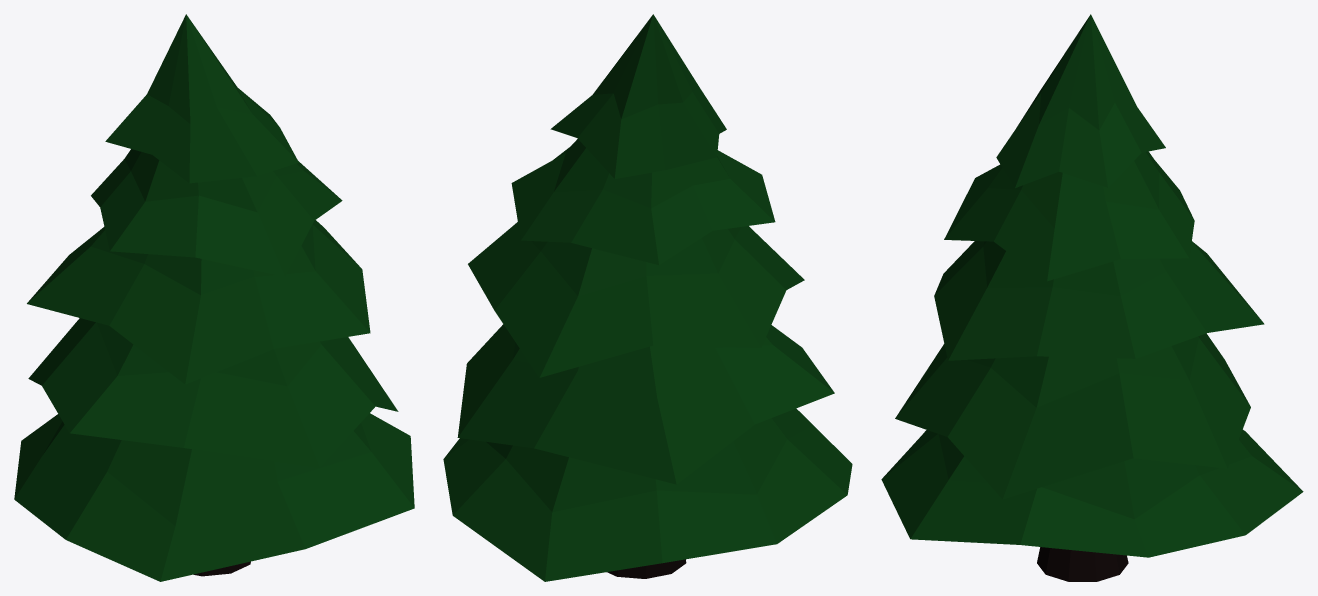
Rendered from lp_conifer3_Cylinder_001.obj.
3 renders of one model, left to right at view 1: azimuth 30°, elevation 25°; view 2: azimuth 150°, elevation 25°; view 3: azimuth 270°, elevation 25°, orthographic. The views are drawn at different scales.
Visible parts, largest first — view 1: lp_conifer3_Cylinder_001; view 2: lp_conifer3_Cylinder_001; view 3: lp_conifer3_Cylinder_001.
Part boxes in pixels (<box>): lp_conifer3_Cylinder_001: <box>14,14,414,581</box>; lp_conifer3_Cylinder_001: <box>443,14,852,581</box>; lp_conifer3_Cylinder_001: <box>881,14,1303,581</box>.
Size of the model in its own units: 7.52 by 11.34 by 8.02.
